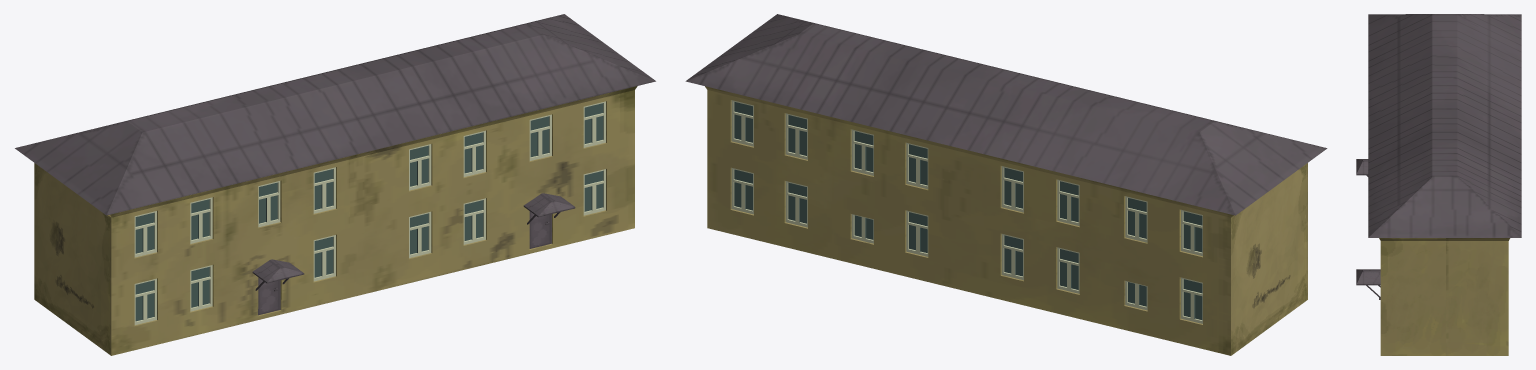
File: bark.fbx
3 renders of one model, left to right at view 1: azimuth 30°, elevation 25°; view 2: azimuth 150°, elevation 25°; view 3: azimuth 270°, elevation 25°, orthographic. The views are drawn at different scales.
Visible parts, largest first — view 1: Куб.001, Куб.002, window, window.008, window.011, window.012, Куб.005, window.003, window.010, window.001, window.004, window.006 (+8 smaller); view 2: Куб.001, Куб.002, window.020, window.023, window.025, window.018, window.014, Куб.003, window.015, window.016, window.017, window.019 (+6 smaller); view 3: Куб.002, Куб.001, Куб.012, Куб.007.
Boxes of the visible parts, box(x1,y1,x2,y2) form: Куб.001: box(34, 86, 637, 355); Куб.002: box(15, 14, 655, 215); window: box(134, 211, 156, 257); window.008: box(583, 169, 605, 215); window.011: box(313, 235, 335, 281); window.012: box(190, 265, 212, 311); Куб.005: box(190, 197, 212, 243); window.003: box(313, 167, 335, 213); window.010: box(409, 211, 431, 258); window.001: box(258, 181, 280, 227); window.004: box(409, 144, 431, 190); window.006: box(529, 114, 551, 160); Куб.001: box(705, 86, 1307, 355); Куб.002: box(685, 14, 1327, 215); window.020: box(851, 129, 873, 175); window.023: box(1057, 179, 1079, 225); window.025: box(1057, 247, 1079, 293); window.018: box(731, 100, 753, 146); window.014: box(1001, 234, 1023, 280); Куб.003: box(1125, 196, 1147, 242); window.015: box(906, 210, 928, 256); window.016: box(785, 181, 807, 227); window.017: box(731, 168, 753, 214); window.019: box(785, 113, 807, 159); Куб.002: box(1368, 14, 1521, 237); Куб.001: box(1379, 238, 1510, 355); Куб.012: box(1356, 269, 1380, 285); Куб.007: box(1356, 159, 1368, 175).
Size of the model in its own units: 7190 by 2319 by 2246.
